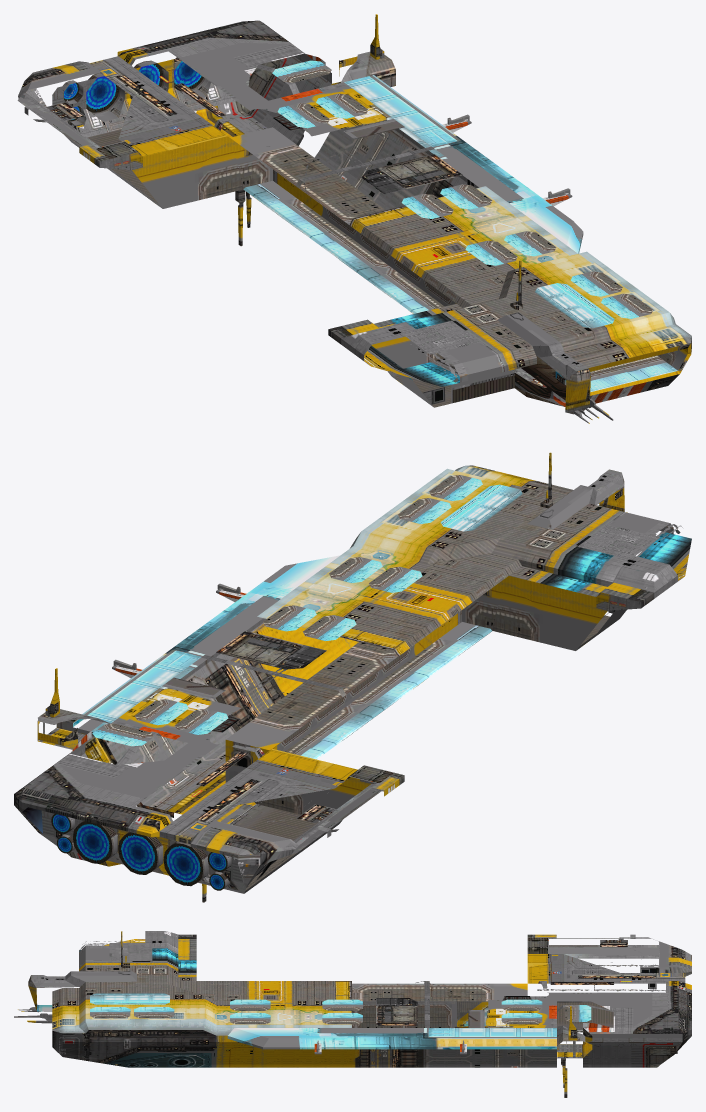
The model's file is LOD0-UVFlip.obj.
The picture shows the model from 3 angles, top to bottom: view 1: azimuth 30°, elevation 25°; view 2: azimuth 150°, elevation 25°; view 3: azimuth 270°, elevation 25°; orthographic projection. The views are drawn at different scales.
Parts seen in each view (by area): view 1: A_TEX, B_TEX, Hgn_Burner, Badge; view 2: A_TEX, B_TEX, Hgn_Burner, Badge; view 3: A_TEX, B_TEX, Badge.
Boxes of the visible parts, left/top/right/bottom form: A_TEX: left=17, top=14, right=691, bottom=423; B_TEX: left=132, top=60, right=691, bottom=395; Hgn_Burner: left=64, top=61, right=203, bottom=121; Badge: left=401, top=320, right=480, bottom=354; A_TEX: left=14, top=452, right=691, bottom=902; B_TEX: left=73, top=475, right=607, bottom=814; Hgn_Burner: left=51, top=814, right=227, bottom=890; Badge: left=577, top=524, right=659, bottom=559; A_TEX: left=14, top=931, right=691, bottom=1097; B_TEX: left=37, top=983, right=591, bottom=1049; Badge: left=109, top=943, right=152, bottom=960.
Size of the model in its own units: 799 by 507 by 1994.
